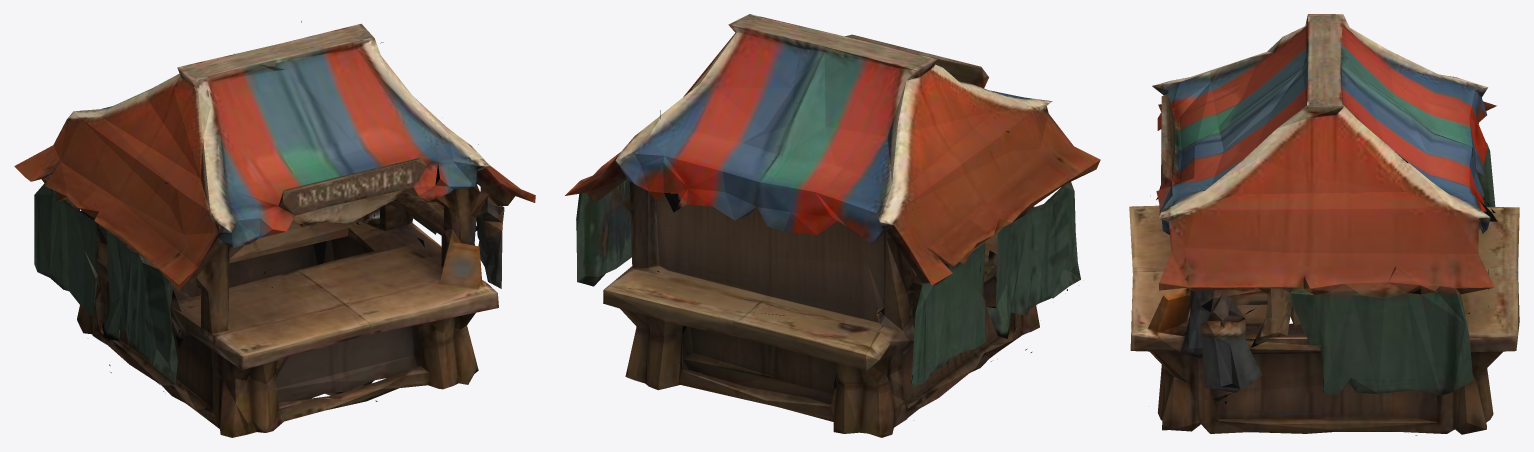
The model's file is stall_market_sign_red_lod0.glb.
3 renders of one model, left to right at view 1: azimuth 30°, elevation 25°; view 2: azimuth 150°, elevation 25°; view 3: azimuth 270°, elevation 25°, orthographic. The views are drawn at different scales.
Visible parts, largest first — view 1: stall_market_sign_red_lod0; view 2: stall_market_sign_red_lod0; view 3: stall_market_sign_red_lod0.
Boxes of the visible parts, left/top/right/bottom form: stall_market_sign_red_lod0: left=14, top=21, right=535, bottom=437; stall_market_sign_red_lod0: left=565, top=14, right=1100, bottom=437; stall_market_sign_red_lod0: left=1129, top=14, right=1519, bottom=435.
Bounding box in the file's own units: 4.05 × 3.25 × 3.65.
Materials: 1 (1 with a texture image).
